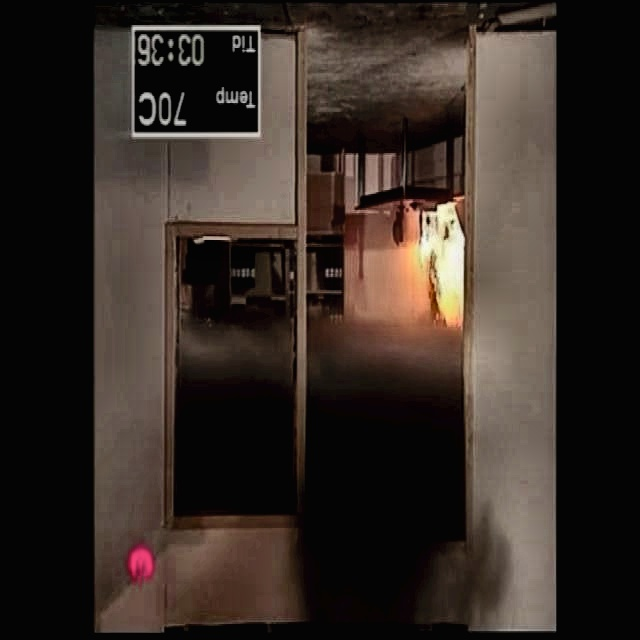fire: (401, 188, 470, 339)
